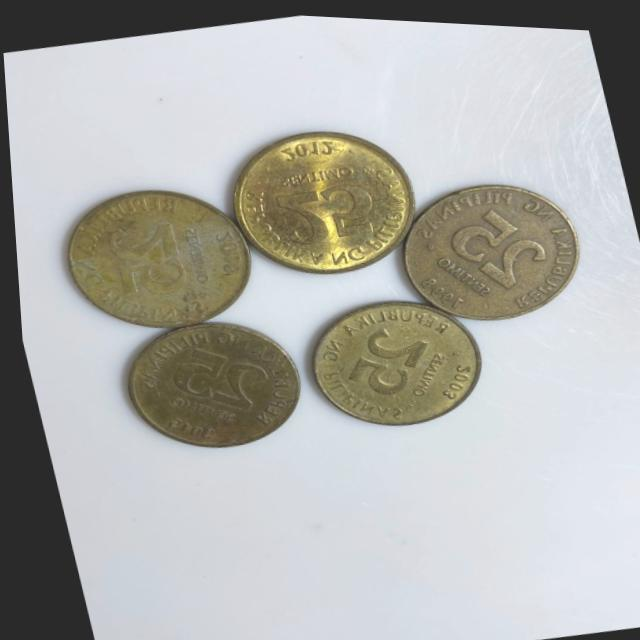25Cent_Old_Front: (257, 171, 389, 256), (156, 336, 265, 423), (444, 200, 545, 291), (94, 209, 187, 304), (330, 315, 432, 398)
